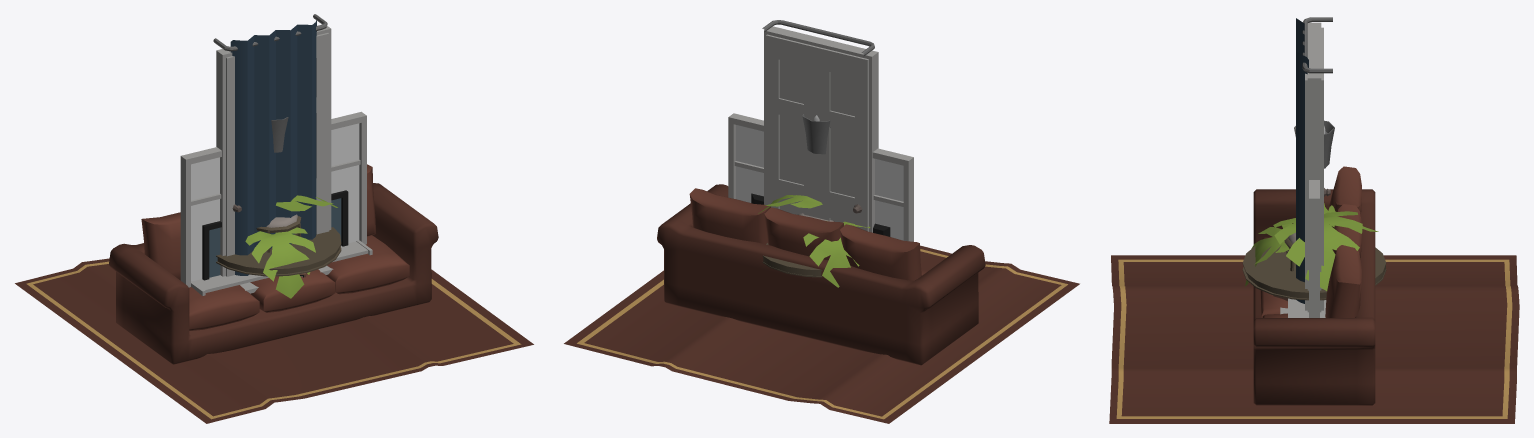
File: living-room.glb
The picture shows the model from 3 angles, left to right: view 1: azimuth 30°, elevation 25°; view 2: azimuth 150°, elevation 25°; view 3: azimuth 270°, elevation 25°; orthographic projection. The views are drawn at different scales.
Parts seen in each view (by area): view 1: rug, couch, curtains, window, door, houseplant, coffee_table, tv_new, shelf_console, stool; view 2: couch, rug, door, window, houseplant, floor_lamp, curtains, coffee_table; view 3: rug, couch, door, houseplant, curtains, coffee_table, window, shelf_console.
Part boxes in pixels (box(x1,y1,x2,y2)): rug: box(15, 258, 533, 423); couch: box(109, 164, 438, 364); curtains: box(213, 14, 327, 275); window: box(180, 111, 366, 287); door: box(216, 24, 331, 276); houseplant: box(245, 195, 337, 298); coffee_table: box(216, 227, 341, 276); tv_new: box(202, 190, 348, 280); shelf_console: box(191, 240, 372, 295); stool: box(256, 214, 301, 252); couch: box(657, 184, 985, 365); rug: box(564, 245, 1079, 423); door: box(764, 26, 878, 232); window: box(728, 113, 913, 241); houseplant: box(758, 195, 870, 287); floor_lamp: box(802, 114, 830, 154); curtains: box(762, 20, 874, 56); coffee_table: box(762, 243, 822, 277); rug: box(1109, 255, 1519, 423); couch: box(1253, 166, 1375, 405); door: box(1305, 22, 1330, 312); houseplant: box(1245, 203, 1378, 290); curtains: box(1296, 17, 1332, 303); coffee_table: box(1242, 245, 1386, 300); window: box(1309, 180, 1319, 317); shelf_console: box(1288, 298, 1326, 317).
Bounding box in the file's own units: 2.5 × 2.1 × 2.57.
